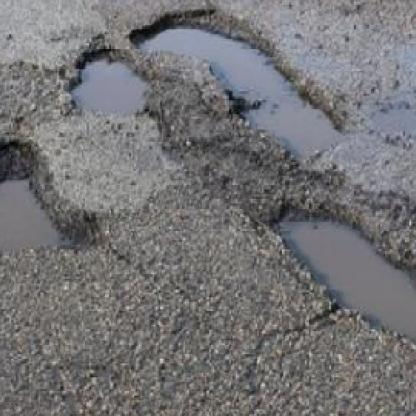pothole: (127, 5, 344, 165), (264, 199, 416, 366), (0, 137, 103, 257), (65, 43, 151, 119)
